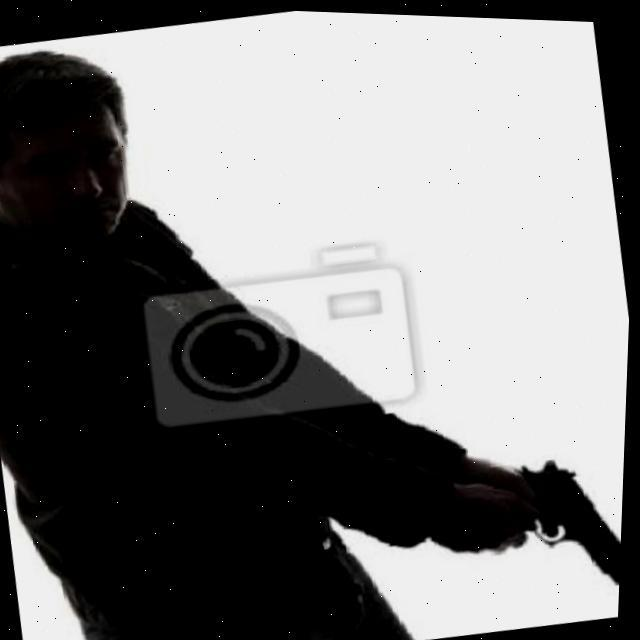gun: (498, 430, 628, 594)
